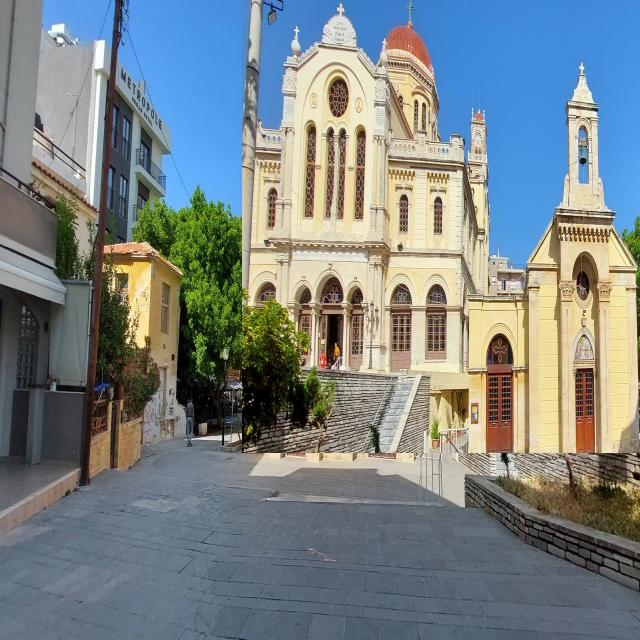Agios Minas: (243, 1, 640, 454)
